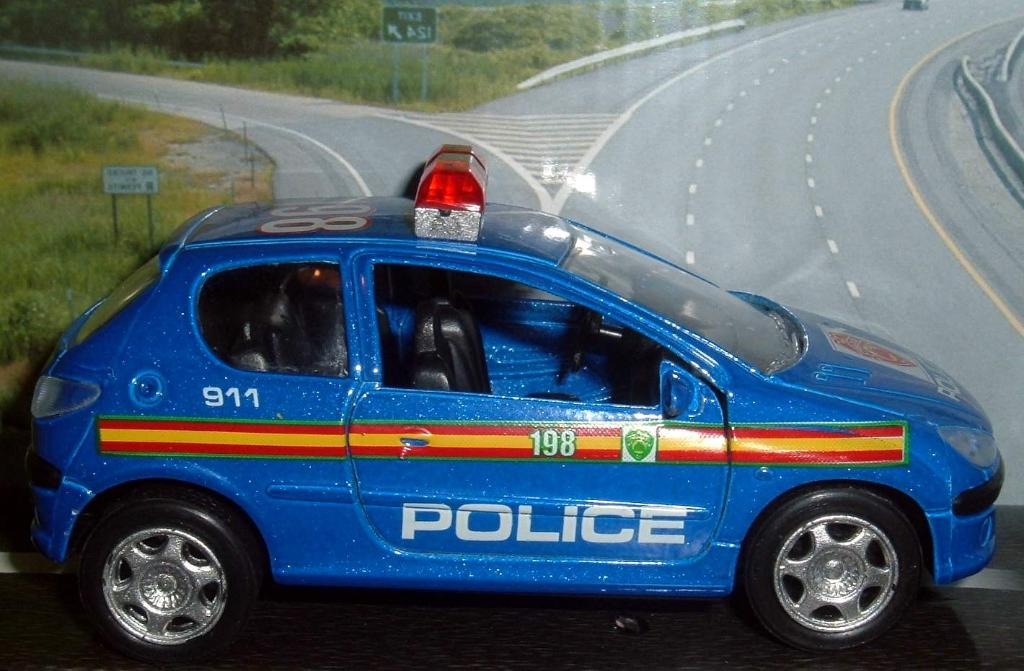Car: (25, 125, 989, 671)
